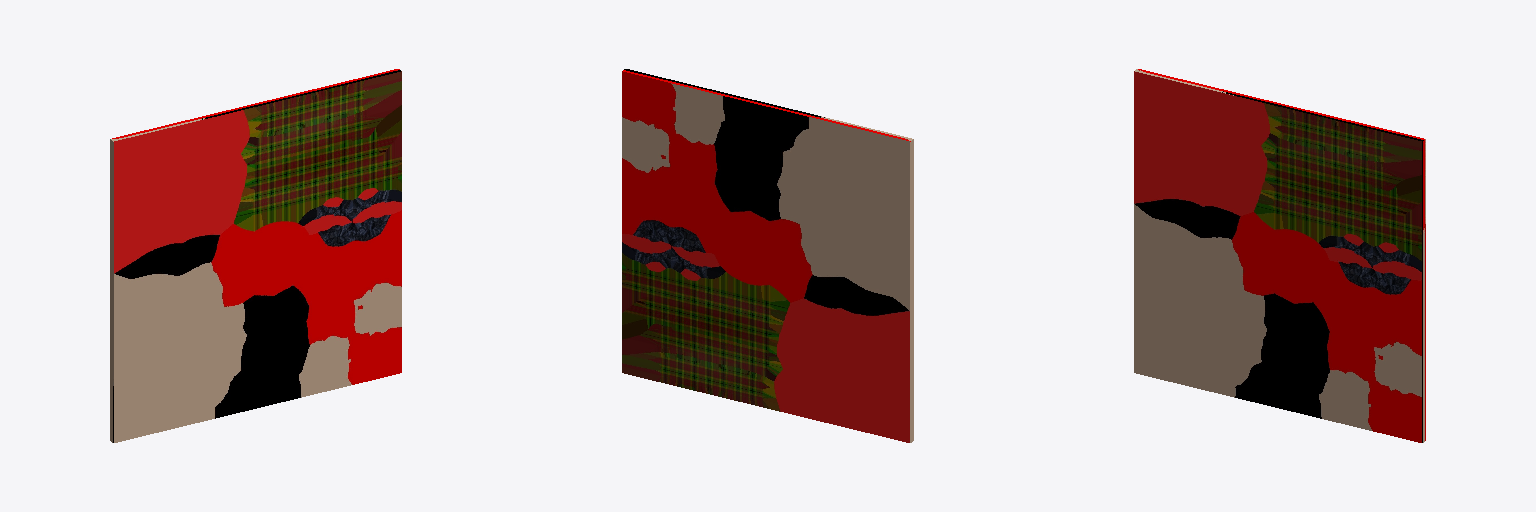
3 views of the same model, side by side, from view 1: azimuth 30°, elevation 25°; view 2: azimuth 150°, elevation 25°; view 3: azimuth 330°, elevation 25° (orthographic).
Parts seen in each view (by area): view 1: pCube1; view 2: pCube1; view 3: pCube1.
Part boxes in pixels (x1,y1,x2,y2): pCube1: (110,69,401,442); pCube1: (622,69,913,442); pCube1: (1134,69,1425,442).
Bounding box in the file's own units: 22.94 × 22.94 × 0.5081.
1 materials, 1 textured.